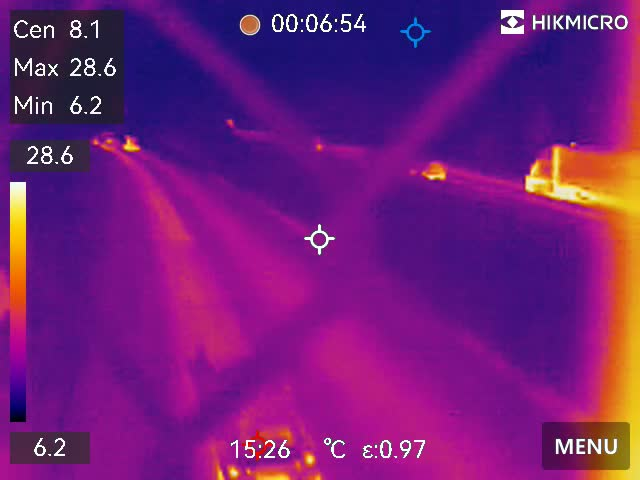heavyTruck: (510, 139, 640, 209)
